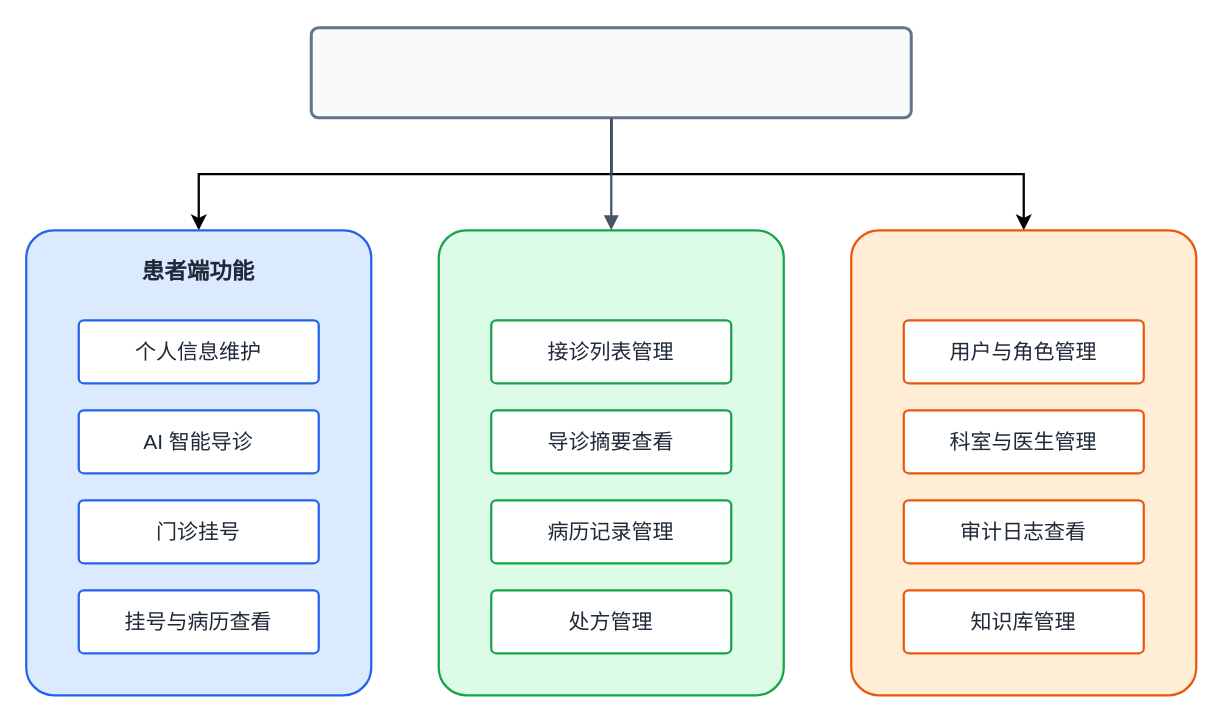
This 1224x722 diagram has some shape labels left out. The shapes that lost their labels are listed below. From the top down, each one's box as (x1, y1, x2, y2) in pixels, then its label:
(309, 26, 912, 118): 基于大模型的智能医疗辅助问诊系统
(437, 228, 784, 696): 医生端功能
(849, 228, 1197, 696): 管理端功能
